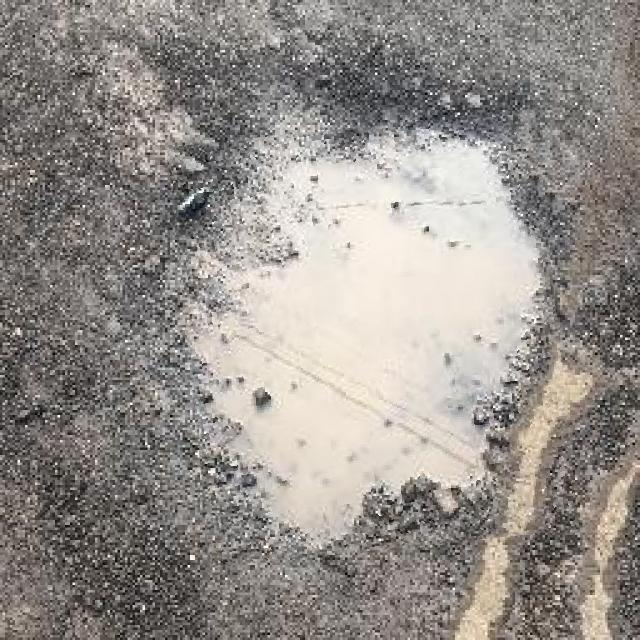puddle: (178, 118, 570, 559)
